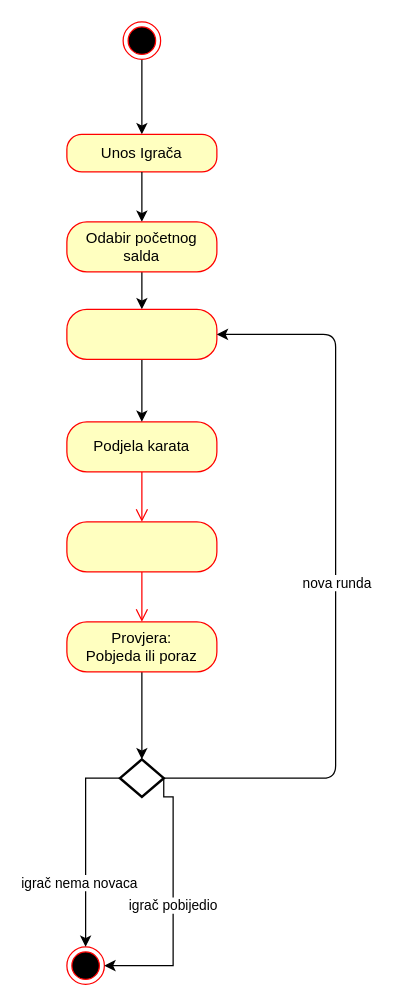
Some shapes in this 393 by 1006 pixel diagram are drawn without their labels. Each missing label, with the centre of its shape:
Odabir uloga: [141,333]
Odbacivanje karata: [141,546]
